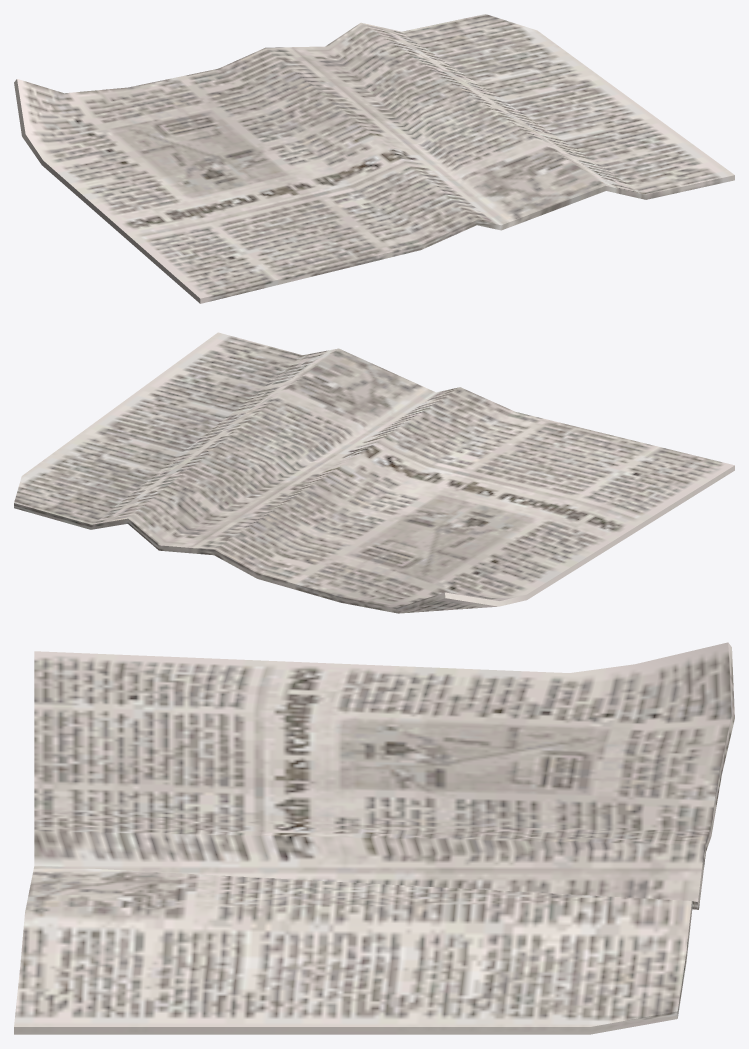
Rendered from newspaper.dae.
The picture shows the model from 3 angles, top to bottom: view 1: azimuth 30°, elevation 25°; view 2: azimuth 150°, elevation 25°; view 3: azimuth 270°, elevation 25°; orthographic projection. The views are drawn at different scales.
Parts seen in each view (by area): view 1: pCube2; view 2: pCube2; view 3: pCube2.
Boxes of the visible parts, box(x1,y1,x2,y2) form: pCube2: box(14, 14, 734, 303); pCube2: box(14, 332, 734, 613); pCube2: box(14, 642, 734, 1034).
Size of the model in its own units: 47.62 by 3.44 by 38.61.
